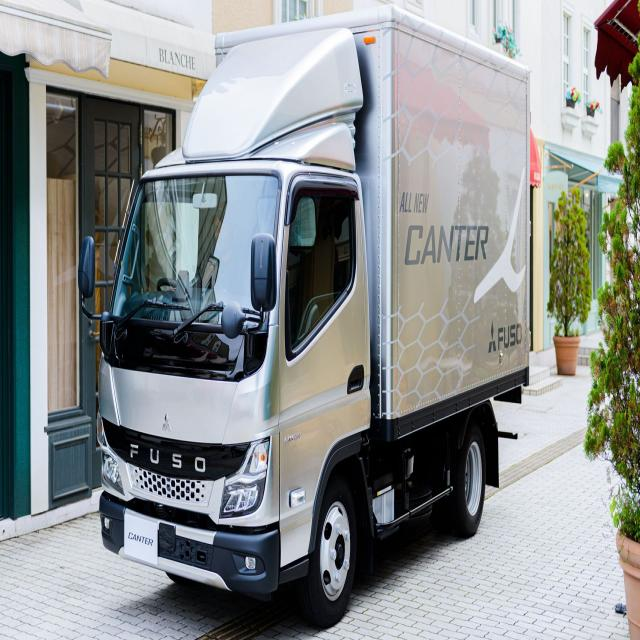truck: (74, 8, 528, 618)
